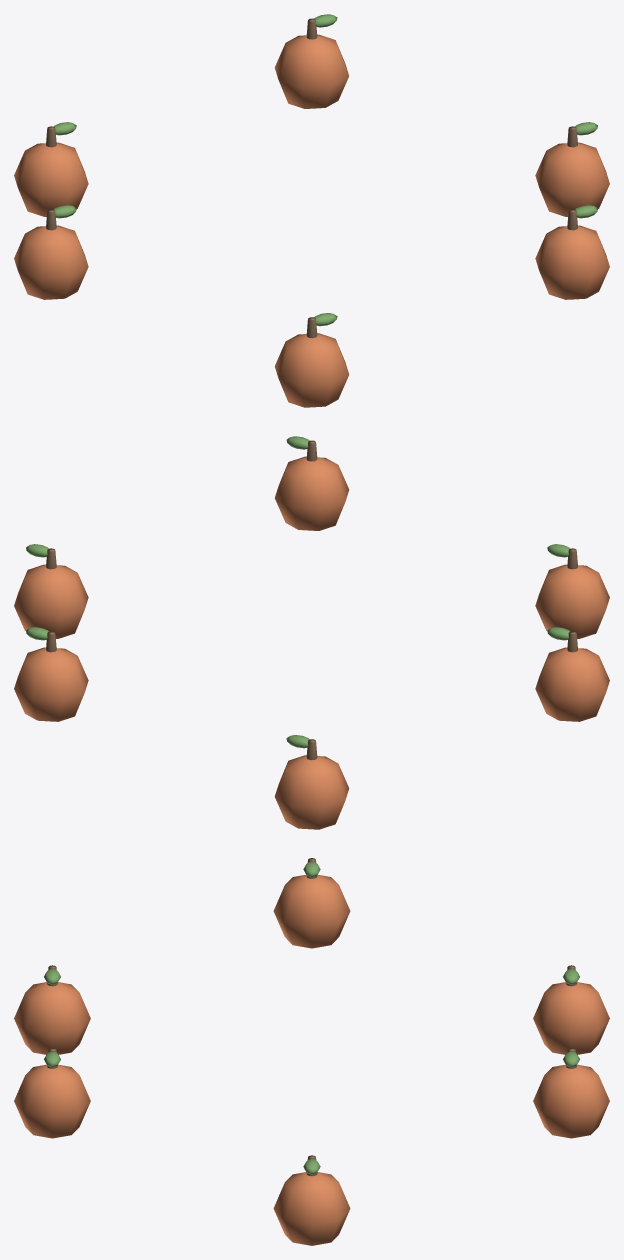
The model's file is tree_fruit_layer_spring_low.glb.
3 renders of one model, top to bottom at view 1: azimuth 30°, elevation 25°; view 2: azimuth 150°, elevation 25°; view 3: azimuth 270°, elevation 25°, orthographic.
Bounding box in the file's own units: 1.67 × 0.3635 × 1.47.
